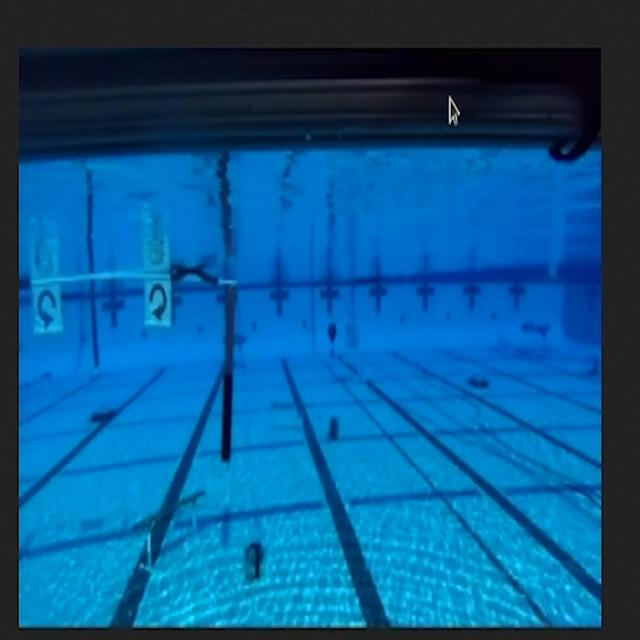Gate: (19, 273, 240, 484)
